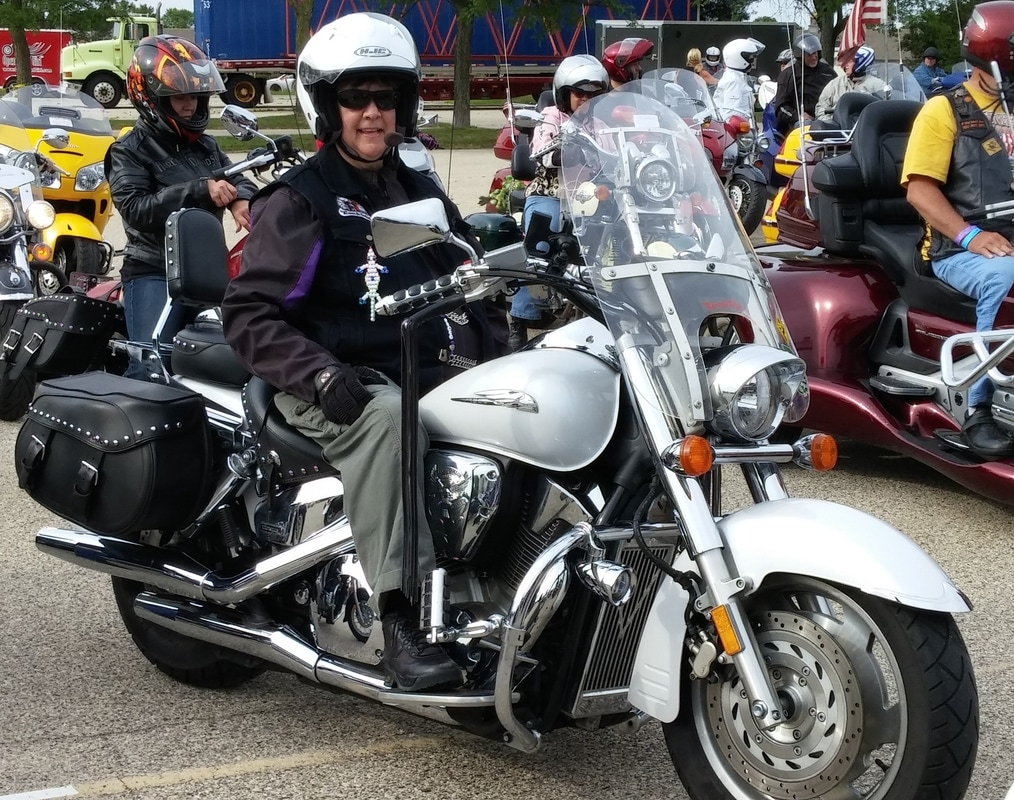with_helmet: (290, 12, 427, 134), (127, 32, 218, 135)
